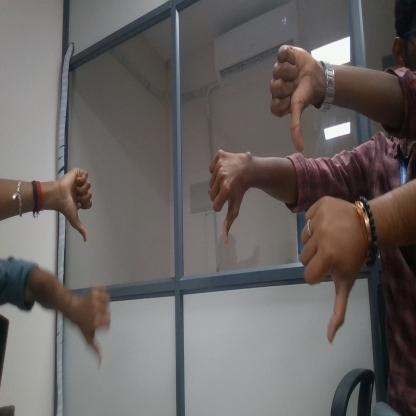Thumbs Down: (296, 192, 370, 353), (269, 21, 325, 159), (194, 142, 261, 252), (57, 147, 105, 251)
